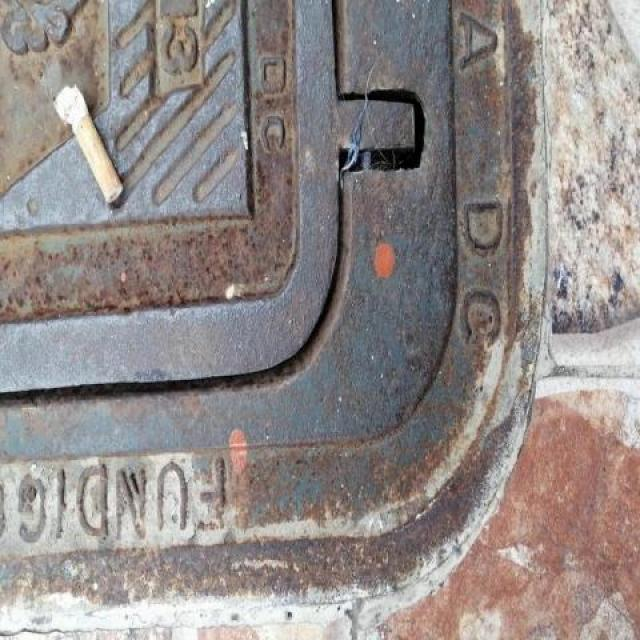non-organic waste: (51, 80, 126, 209)
